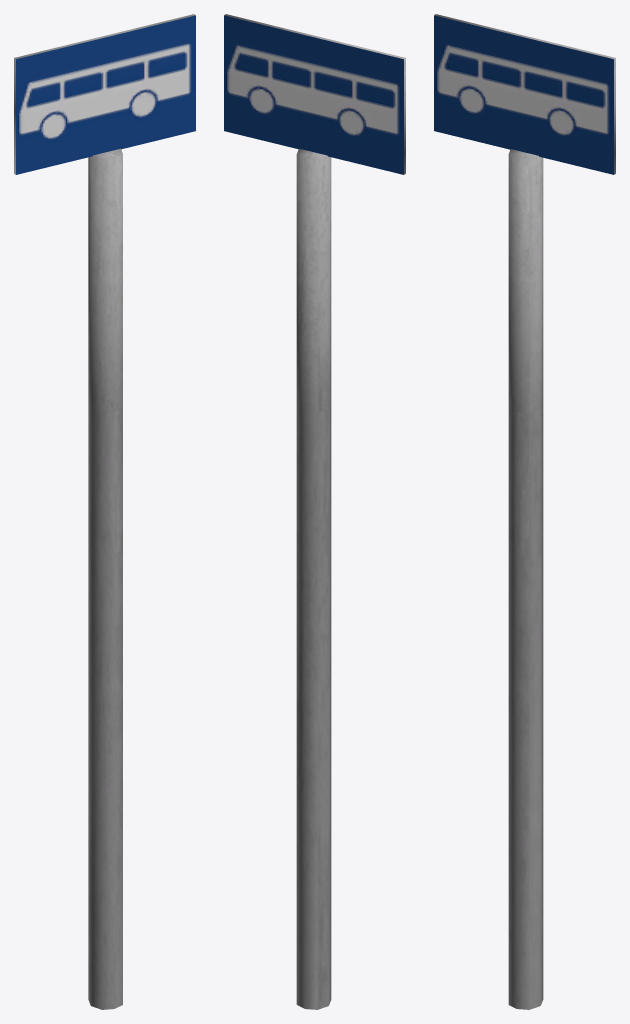
File: BussSkilt.glb
3 views of the same model, side by side, from view 1: azimuth 30°, elevation 25°; view 2: azimuth 150°, elevation 25°; view 3: azimuth 330°, elevation 25° (orthographic).
Visible parts, largest first — view 1: BussSkilt; view 2: BussSkilt; view 3: BussSkilt.
Boxes of the visible parts, left/top/right/bottom form: BussSkilt: left=14, top=14, right=195, bottom=1009; BussSkilt: left=224, top=14, right=405, bottom=1009; BussSkilt: left=434, top=14, right=615, bottom=1009.
Size of the model in its own units: 3.74 by 19.2 by 0.6518.
1 material, 1 textured.
